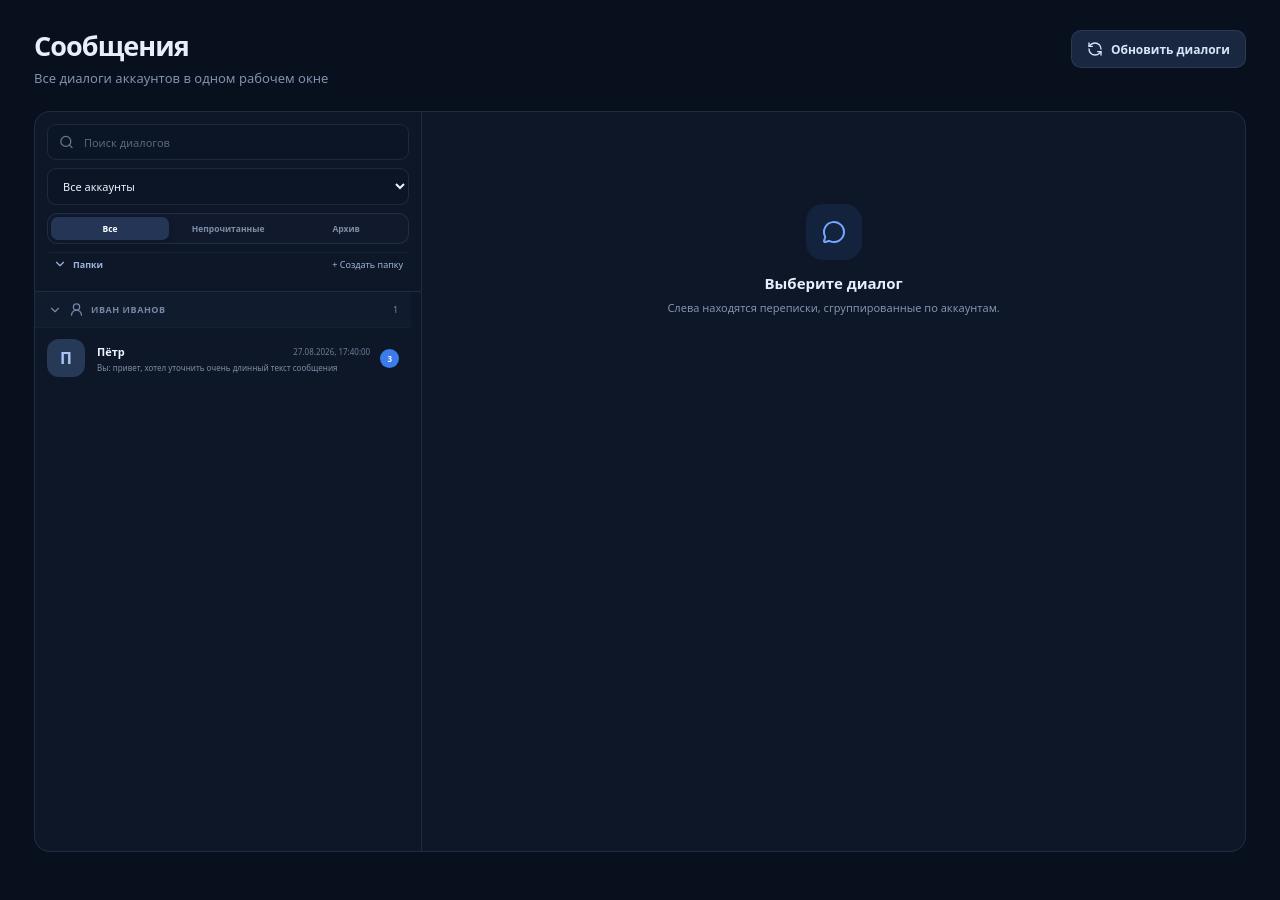
it: InboxPage v0.4.9 › stacks emoji, quick replies and send controls in that order and keeps quick action icon-only
Click the button "Пётр": [66, 358] box [35,327,411,388]
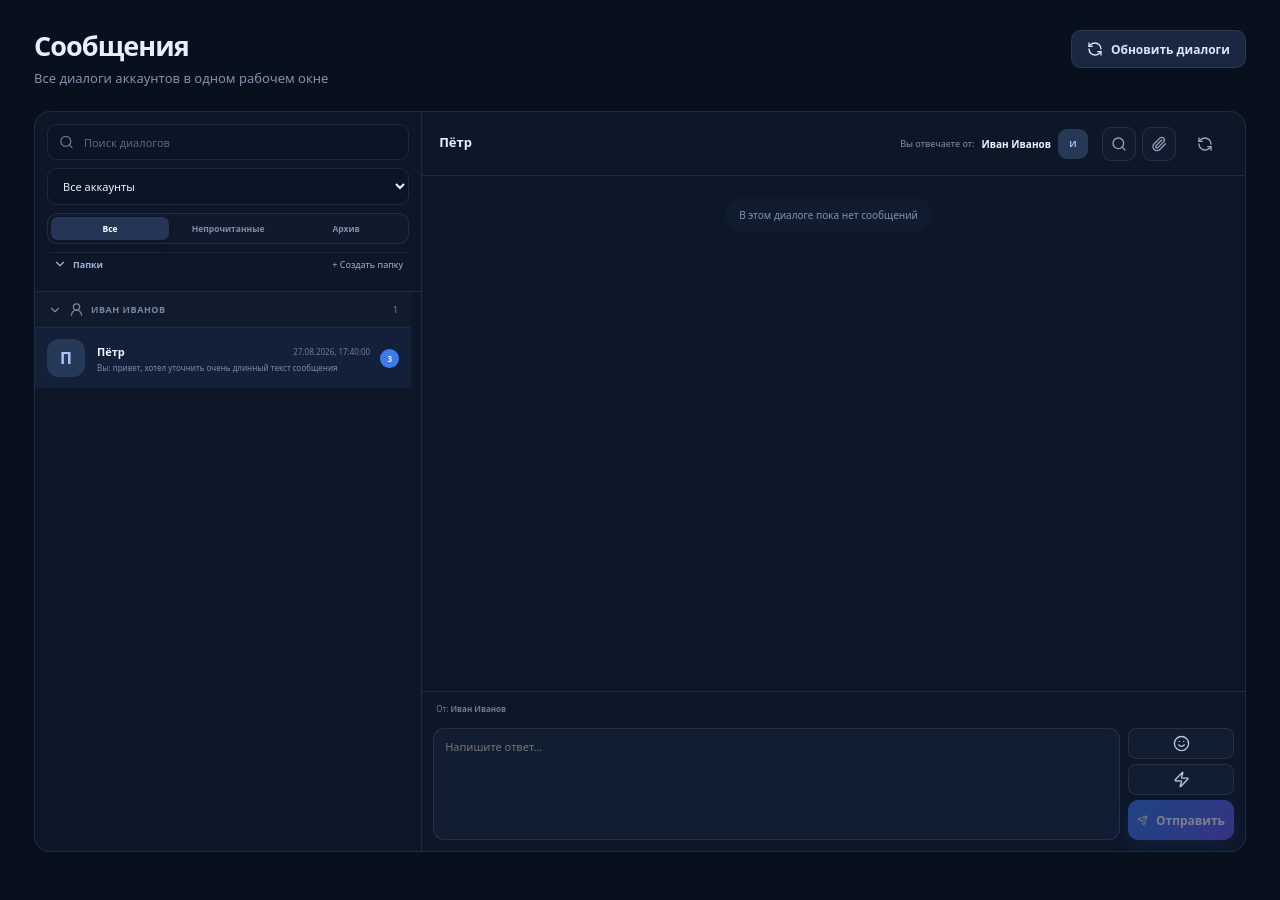
Expected: the button named "Быстрые ответы" does not show "Быстрый ответ", [1128,764,1234,795]
Expected: the button "Отправить" is shown, [1128,800,1234,840]
